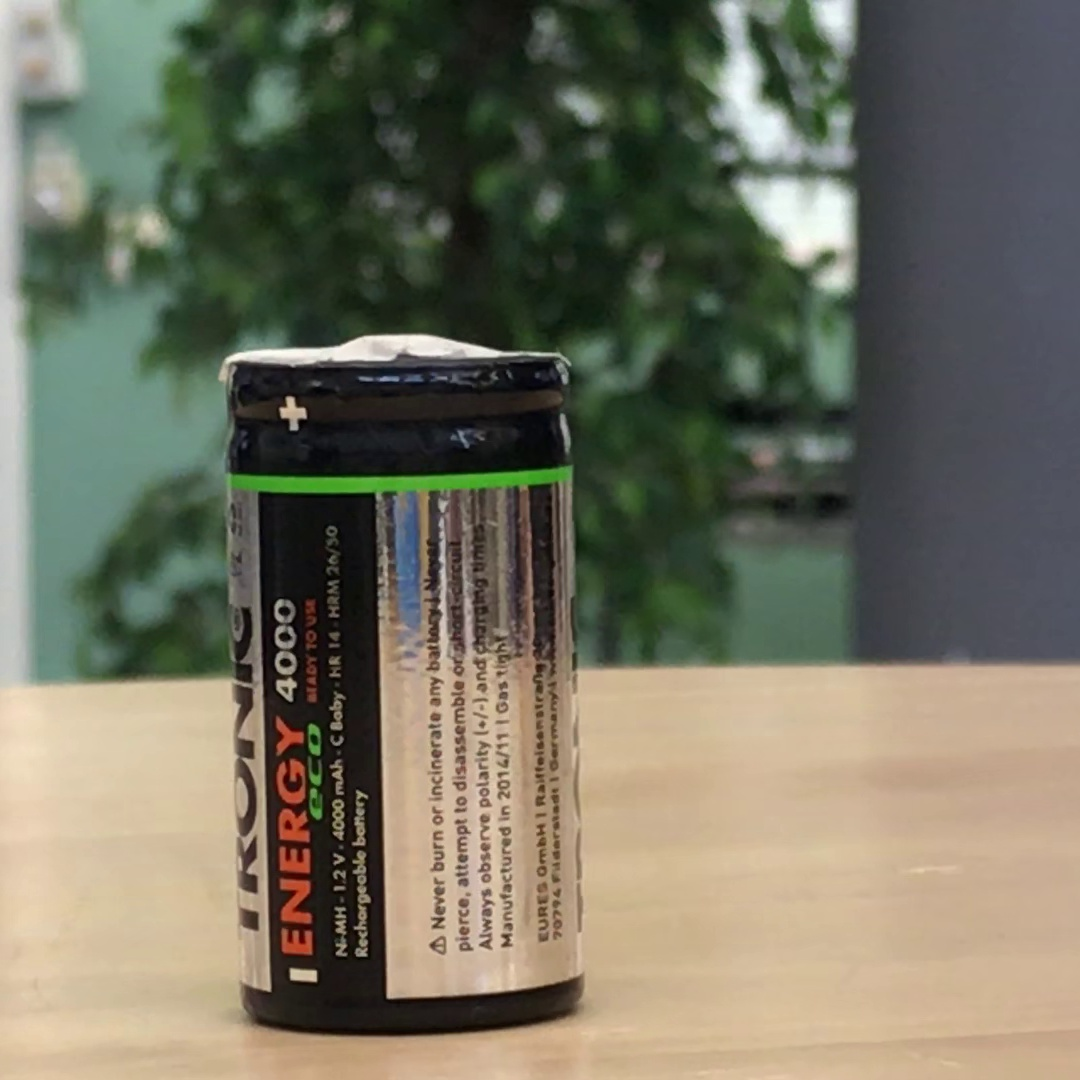keyword: (325, 844, 354, 900)
